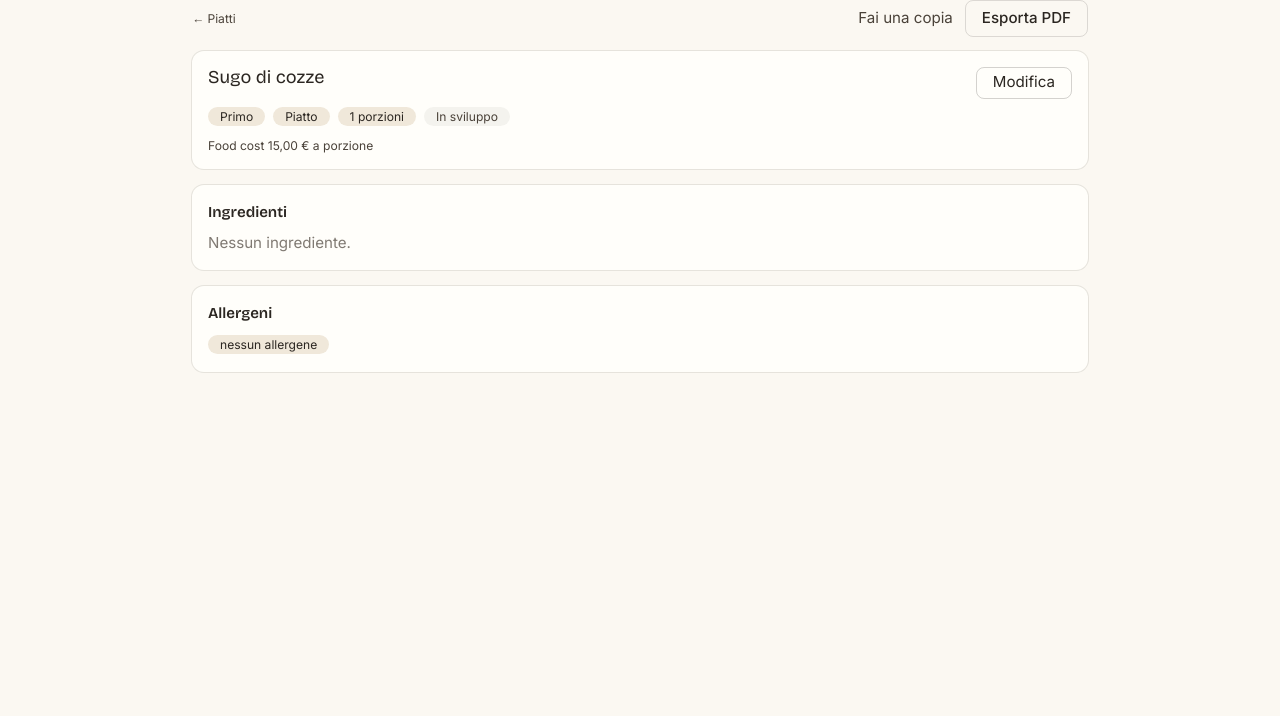
it: 🔴 la riga si scrive in lordo e netto, non in percentuale › il campo «quanto ne prendi» c'e', e quello dello scarto NON c'e' piu'
Click the button "Modifica".
click(1024, 83)  # box [976,67,1072,99]
(page scrolled)
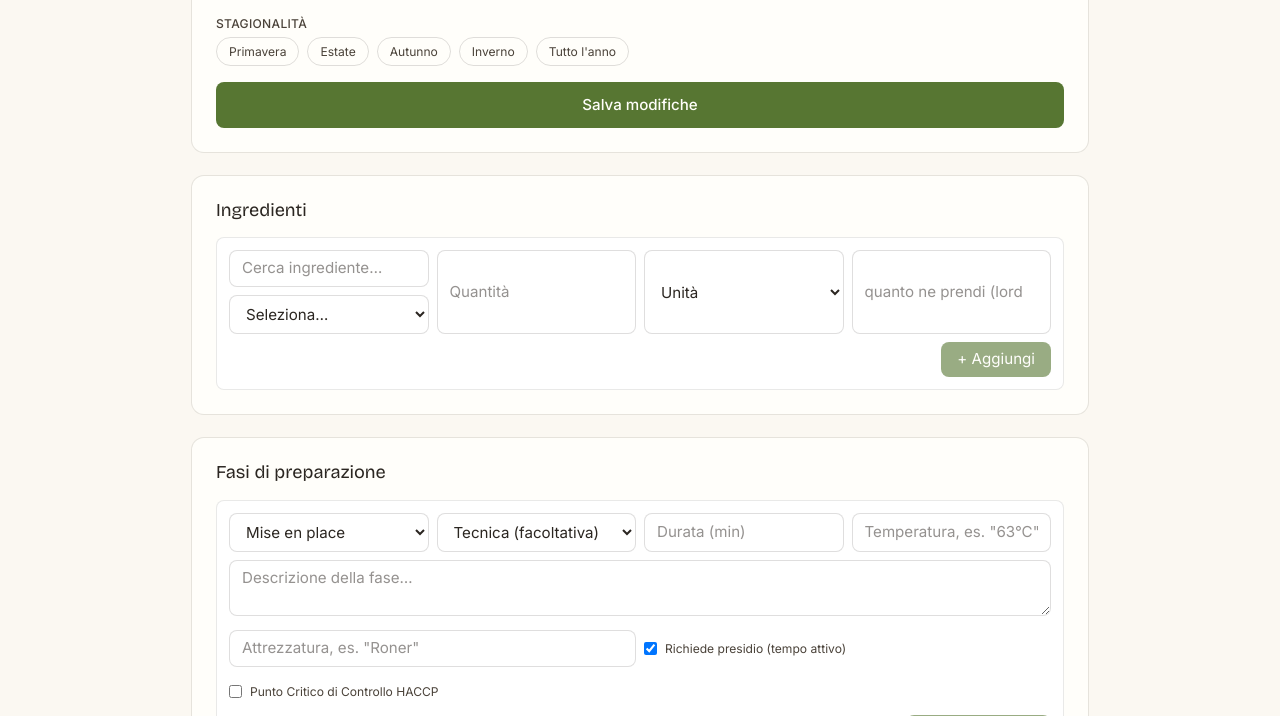
Now the button "+ Aggiungi" is shown, box [941,342,1051,377]
